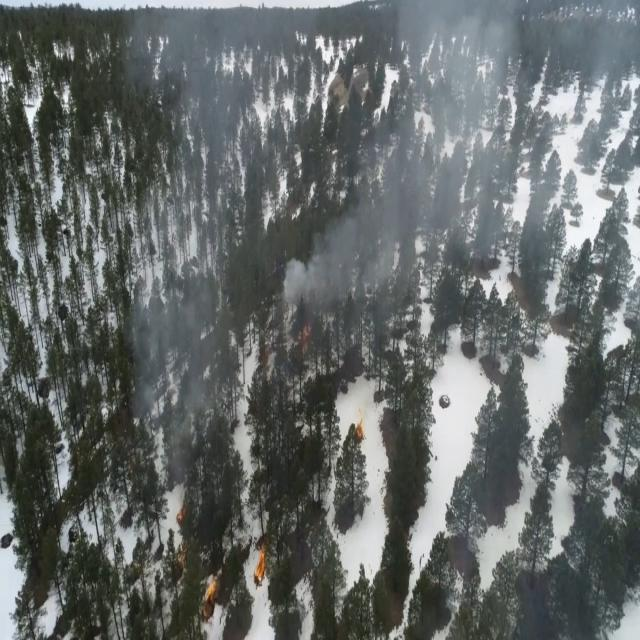Fire: (249, 540, 275, 588), (200, 572, 220, 610), (172, 491, 190, 529), (349, 412, 366, 443), (298, 314, 316, 341), (171, 544, 188, 566)
Smoke: (284, 0, 640, 309), (123, 0, 322, 506)
